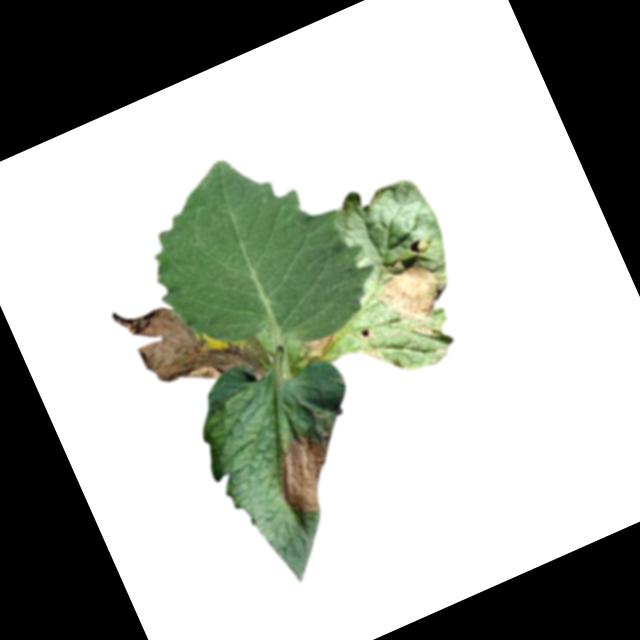Late_blight: (111, 264, 276, 424), (258, 418, 360, 523), (368, 253, 450, 335), (299, 330, 338, 362)
healthy: (120, 119, 391, 390)
